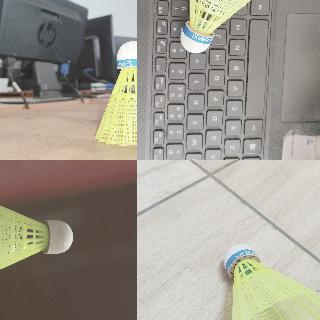shuttlecock: (216, 243, 319, 319), (0, 197, 72, 279), (179, 0, 266, 54), (95, 40, 136, 146)
